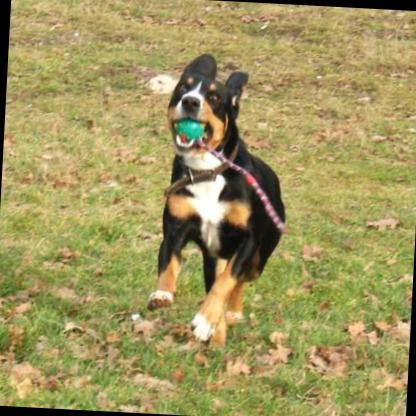EntleBucher: (131, 49, 296, 356)
